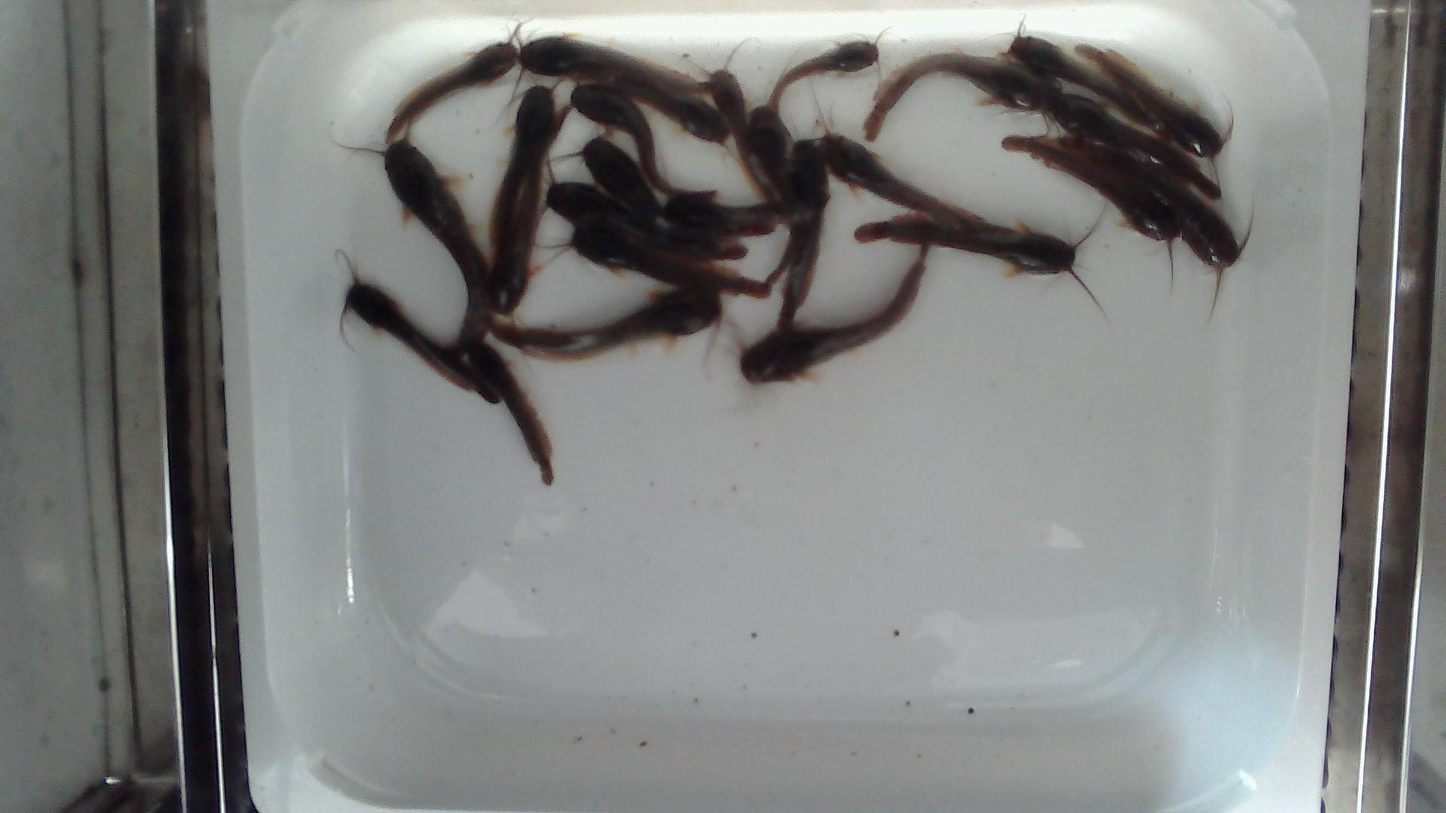lele: (334, 123, 490, 351), (1057, 136, 1247, 321), (1001, 134, 1188, 272), (335, 250, 501, 401), (741, 248, 924, 382), (856, 213, 1101, 309), (1076, 41, 1234, 180), (993, 16, 1159, 135), (547, 170, 752, 266), (817, 116, 986, 230), (1050, 91, 1224, 201), (486, 105, 572, 321), (562, 83, 718, 199), (862, 52, 1061, 140), (493, 285, 724, 360), (553, 223, 773, 298), (386, 22, 523, 142), (694, 42, 782, 202), (489, 77, 562, 267), (510, 32, 711, 101), (468, 342, 555, 489), (569, 72, 731, 150), (750, 105, 811, 286), (777, 139, 829, 333), (767, 38, 881, 117), (567, 132, 660, 228), (655, 196, 790, 236)
